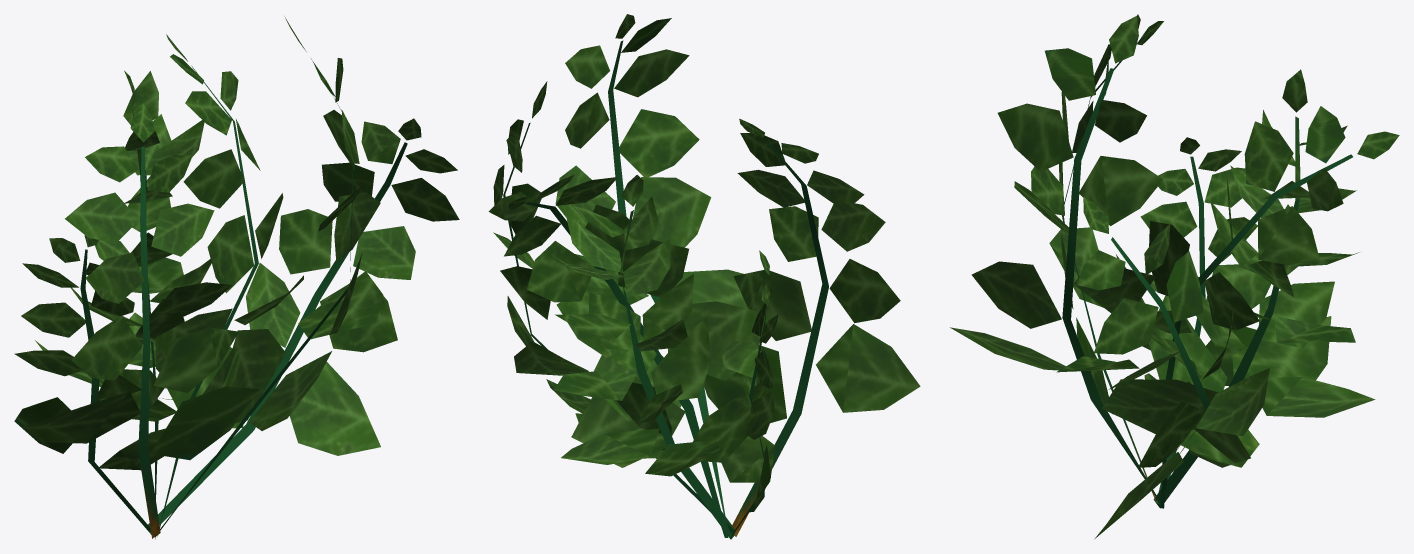
File: SM_Tree_And_Bushes.fbx_SM_Bush_19.fbx
The picture shows the model from 3 angles, left to right: view 1: azimuth 30°, elevation 25°; view 2: azimuth 150°, elevation 25°; view 3: azimuth 270°, elevation 25°; orthographic projection. The views are drawn at different scales.
Parts seen in each view (by area): view 1: SM_Tree_29; view 2: SM_Tree_29; view 3: SM_Tree_29.
Part boxes in pixels (x1,y1,x2,y2): SM_Tree_29: (14,16,459,539); SM_Tree_29: (488,14,920,539); SM_Tree_29: (950,14,1399,539).
Bounding box in the file's own units: 1646 × 1810 × 1329.
